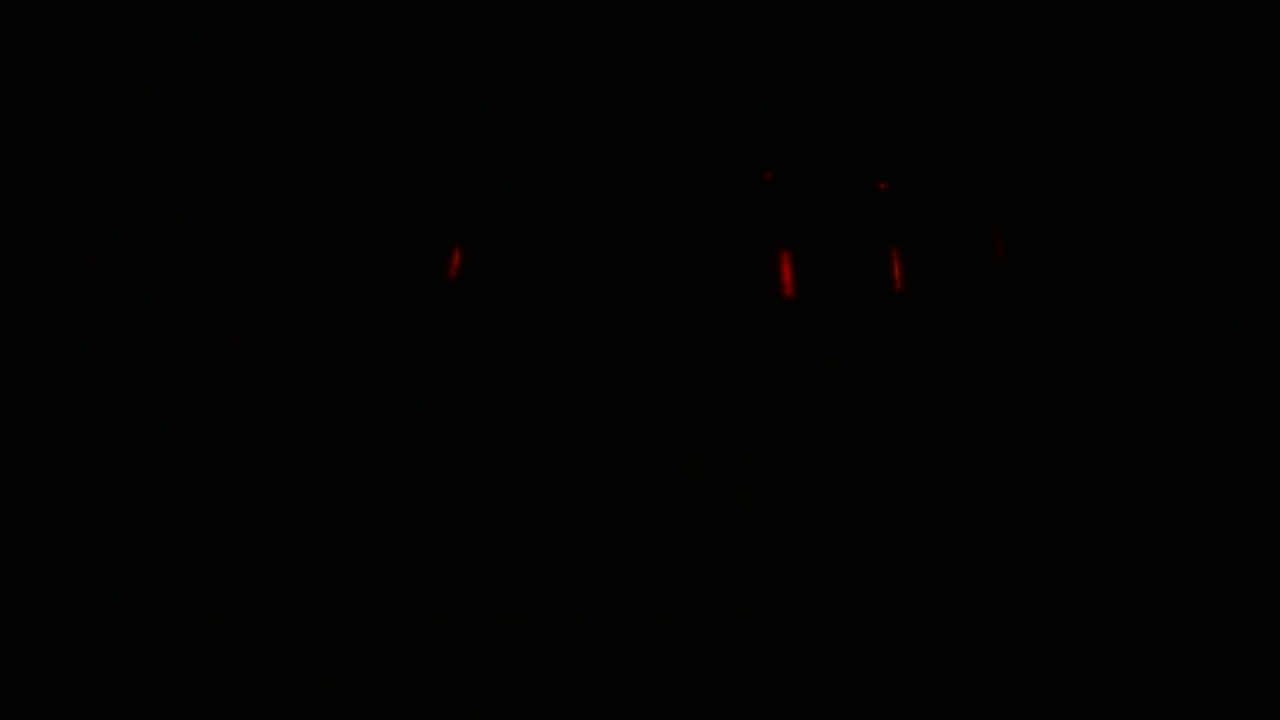pair1: (773, 246, 906, 297)
